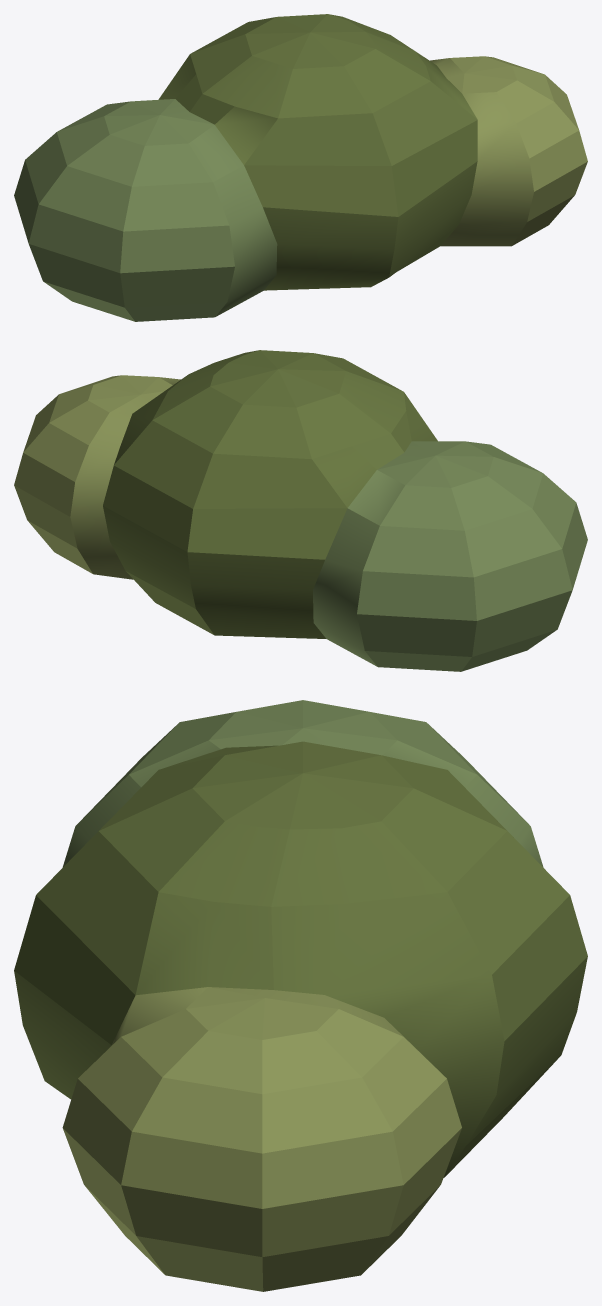
The model's file is shrub3.fbx.
3 renders of one model, top to bottom at view 1: azimuth 30°, elevation 25°; view 2: azimuth 150°, elevation 25°; view 3: azimuth 270°, elevation 25°, orthographic. The views are drawn at different scales.
Parts seen in each view (by area): view 1: shrub3; view 2: shrub3; view 3: shrub3.
Part boxes in pixels (left/top/right/bottom): shrub3: left=14, top=14, right=587, bottom=321; shrub3: left=14, top=350, right=587, bottom=671; shrub3: left=14, top=700, right=587, bottom=1291.
Bounding box in the file's own units: 25.84 × 9.76 × 14.67.
